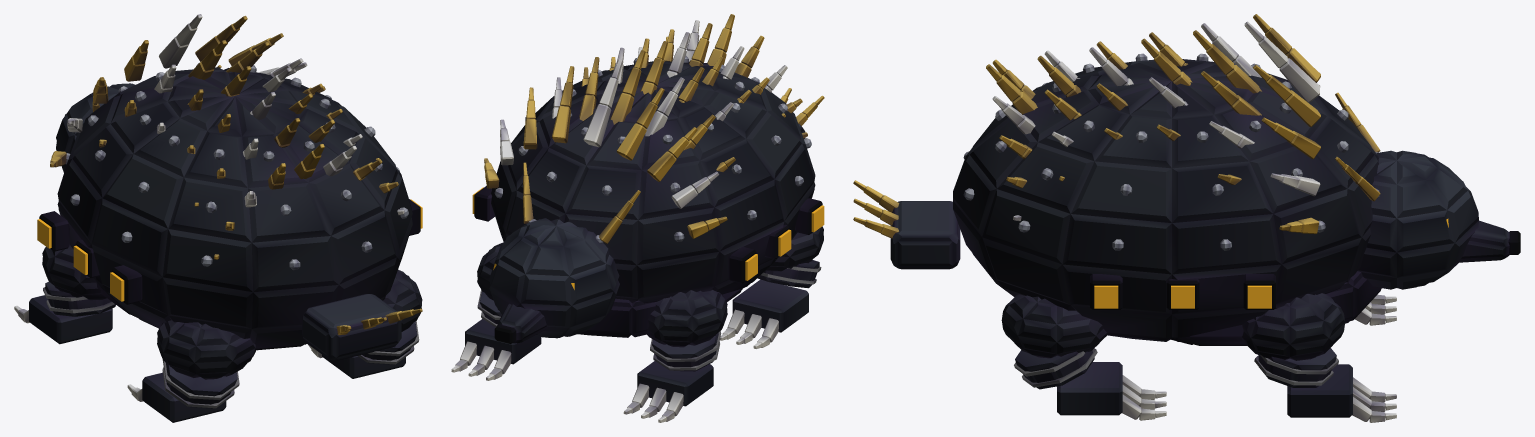
The model's file is Goldbristle.glb.
3 views of the same model, side by side, from view 1: azimuth 30°, elevation 25°; view 2: azimuth 150°, elevation 25°; view 3: azimuth 270°, elevation 25° (orthographic). The views are drawn at different scales.
Visible parts, largest first — view 1: Body__Tex, Tail1__Tex, LegBL1__Tex, LegFL3__Tex, LegBL2__Tex, LegFL1__Tex, LegBL3__Tex, LegFL2__Tex, Head__Tex, LegBR1__Tex, Body__Glow, LegBR2__Tex (+1 smaller); view 2: Body__Tex, Head__Tex, LegBL3__Tex, LegFL1__Tex, LegFL3__Tex, LegFR3__Tex, LegFL2__Tex, LegBL1__Tex, LegBL2__Tex, Body__Glow, LegFR1__Tex, LegFR2__Tex (+1 smaller); view 3: Body__Tex, Head__Tex, Tail1__Tex, LegFR1__Tex, LegBR1__Tex, LegBR3__Tex, LegFR3__Tex, LegBR2__Tex, LegFR2__Tex, Body__Glow, LegFL3__Tex.
Part boxes in pixels (x1,y1,x2,y2): Body__Tex: [39, 14, 420, 350]; Tail1__Tex: [302, 294, 422, 360]; LegBL1__Tex: [157, 320, 255, 379]; LegFL3__Tex: [14, 295, 112, 344]; LegBL2__Tex: [162, 359, 239, 408]; LegFL1__Tex: [42, 245, 106, 300]; LegBL3__Tex: [127, 372, 226, 422]; LegFL2__Tex: [43, 281, 115, 316]; Head__Tex: [56, 65, 221, 172]; LegBR1__Tex: [383, 269, 422, 331]; Body__Glow: [37, 199, 422, 301]; LegBR2__Tex: [358, 321, 419, 364]; Body__Tex: [474, 14, 822, 337]; Head__Tex: [489, 162, 640, 343]; LegBL3__Tex: [720, 279, 808, 348]; LegFL1__Tex: [647, 289, 727, 347]; LegFL3__Tex: [623, 361, 713, 422]; LegFR3__Tex: [451, 319, 541, 380]; LegFL2__Tex: [650, 331, 721, 371]; LegBL1__Tex: [766, 226, 823, 271]; LegBL2__Tex: [757, 260, 821, 288]; Body__Glow: [472, 187, 824, 280]; LegFR1__Tex: [477, 242, 502, 300]; LegFR2__Tex: [477, 290, 501, 327]; Body__Tex: [953, 14, 1381, 345]; Head__Tex: [1335, 92, 1520, 289]; Tail1__Tex: [853, 180, 960, 269]; LegFR1__Tex: [1241, 293, 1345, 360]; LegBR1__Tex: [1001, 294, 1108, 358]; LegBR3__Tex: [1057, 362, 1166, 420]; LegFR3__Tex: [1287, 364, 1396, 422]; LegBR2__Tex: [1014, 348, 1097, 389]; LegFR2__Tex: [1254, 348, 1338, 387]; Body__Glow: [1094, 285, 1271, 308]; LegFL3__Tex: [1355, 294, 1396, 325].
Bounding box in the file's own units: 3.35 × 3.43 × 6.09.
